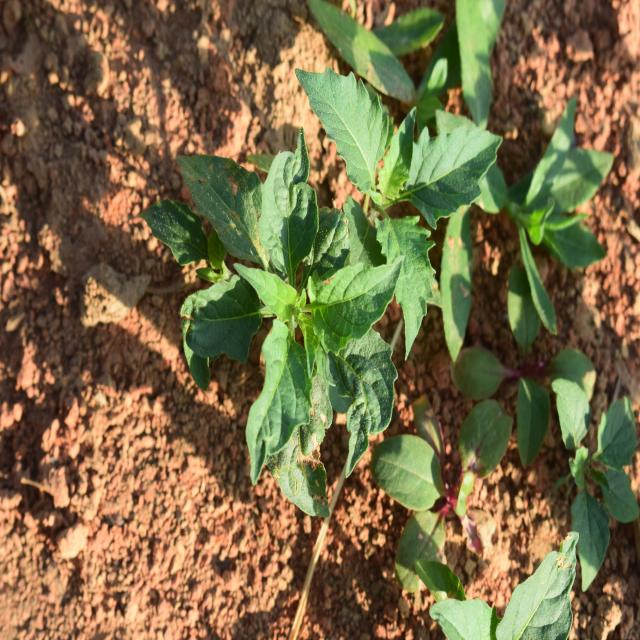Black_nightshade: (204, 156, 402, 456), (310, 62, 482, 343)
